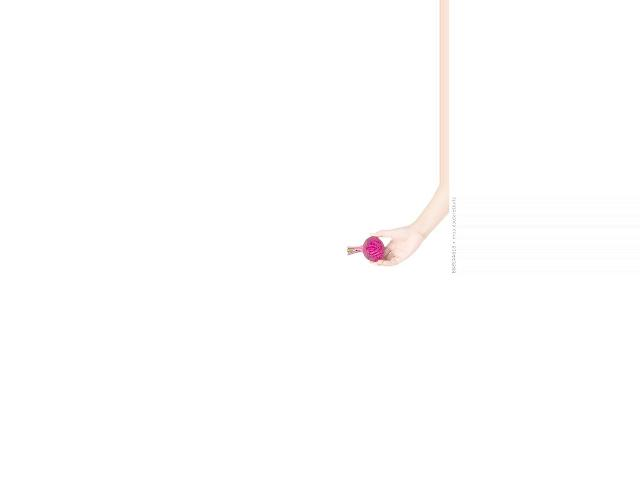beet: (346, 236, 384, 262)
